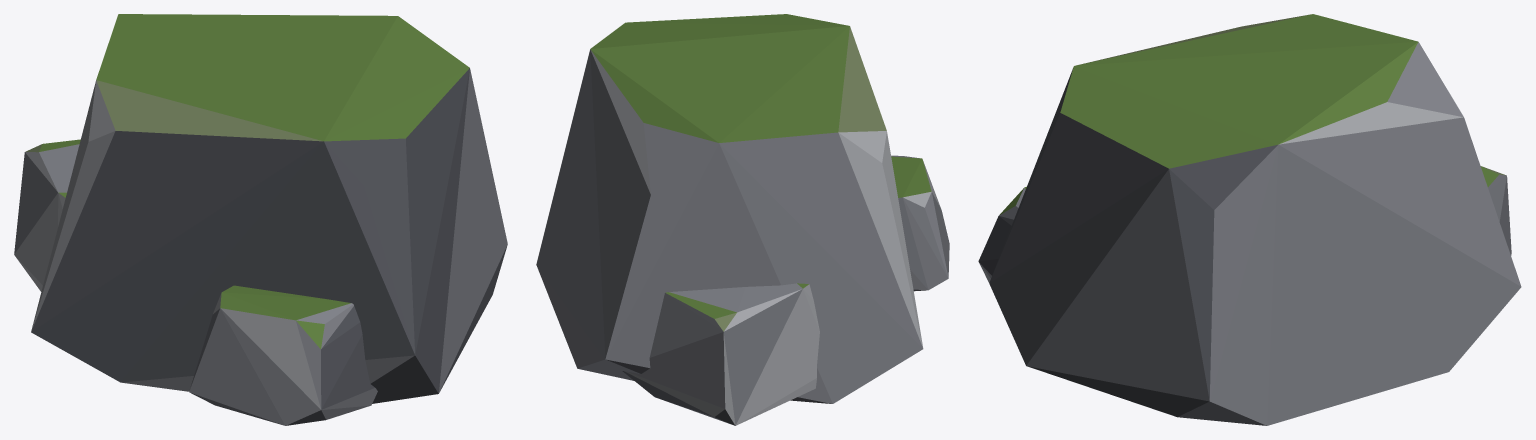
Rendered from rock_large_a.fbx.
3 views of the same model, side by side, from view 1: azimuth 30°, elevation 25°; view 2: azimuth 150°, elevation 25°; view 3: azimuth 270°, elevation 25° (orthographic). The views are drawn at different scales.
Visible parts, largest first — view 1: rock_large_a; view 2: rock_large_a; view 3: rock_large_a.
Boxes of the visible parts, x1,y1,x2,y2 form: rock_large_a: (14, 14, 507, 425); rock_large_a: (536, 14, 949, 425); rock_large_a: (978, 14, 1521, 425).
Size of the model in its own units: 3.13 by 1.86 by 3.37.
